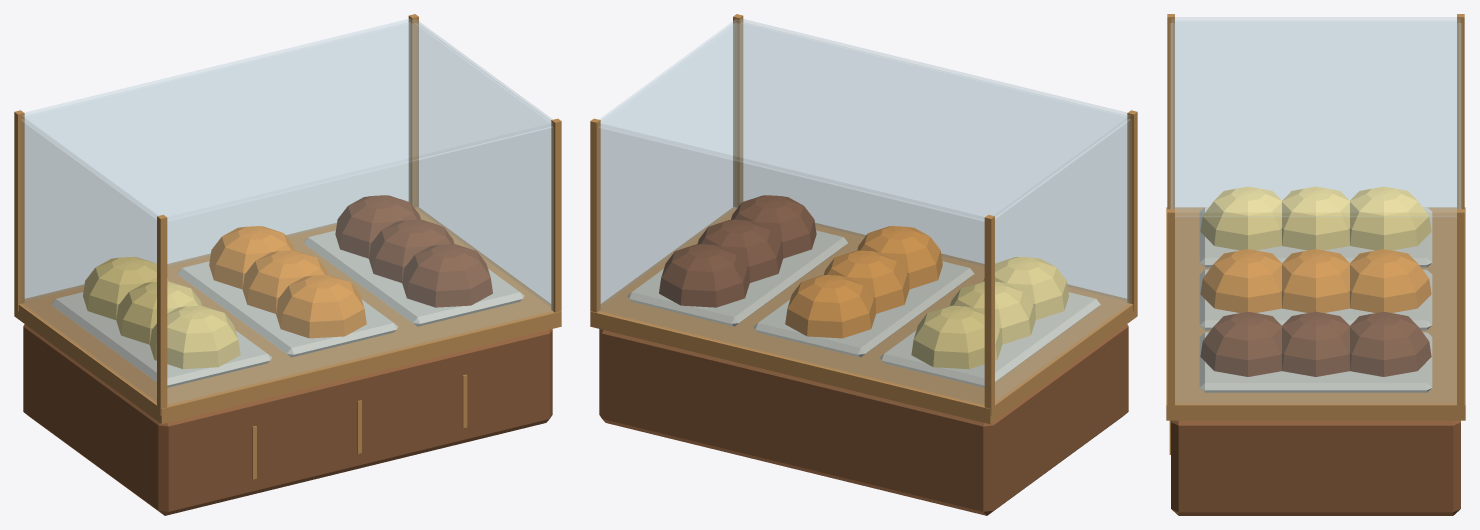
Rendered from sweets-counter.glb.
3 views of the same model, side by side, from view 1: azimuth 30°, elevation 25°; view 2: azimuth 150°, elevation 25°; view 3: azimuth 270°, elevation 25° (orthographic).
Parts seen in each view (by area): view 1: sweets-counter; view 2: sweets-counter; view 3: sweets-counter.
Boxes of the visible parts, x1=… form: sweets-counter: x1=14, y1=14, x2=561, y2=515; sweets-counter: x1=590, y1=14, x2=1137, y2=515; sweets-counter: x1=1166, y1=14, x2=1465, y2=515.
Bounding box in the file's own units: 0.305 × 0.2205 × 0.194.
